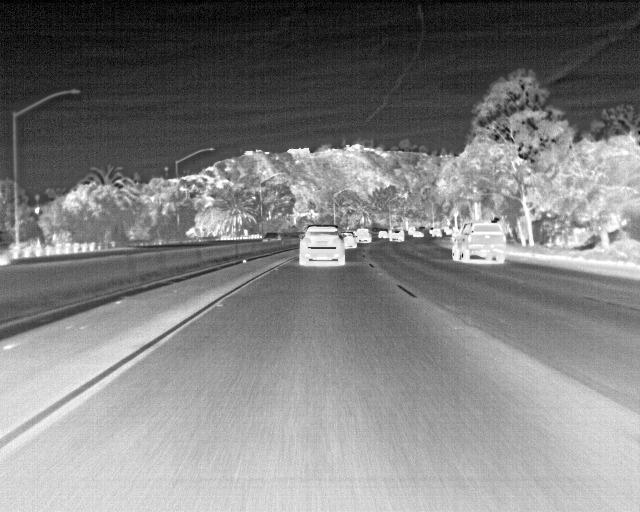car: (449, 221, 508, 263), (296, 223, 346, 263), (387, 225, 404, 244), (260, 229, 281, 244), (340, 232, 357, 250), (353, 226, 372, 242), (376, 227, 392, 240)
